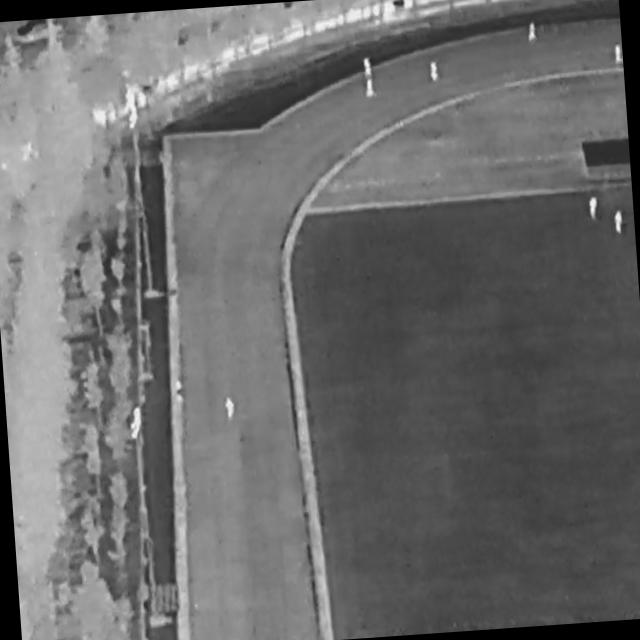person: (223, 395, 237, 421), (613, 208, 625, 234), (175, 379, 186, 404), (589, 195, 599, 219), (365, 77, 375, 100), (364, 56, 374, 78), (430, 60, 440, 82), (529, 20, 538, 41), (614, 44, 623, 64)
